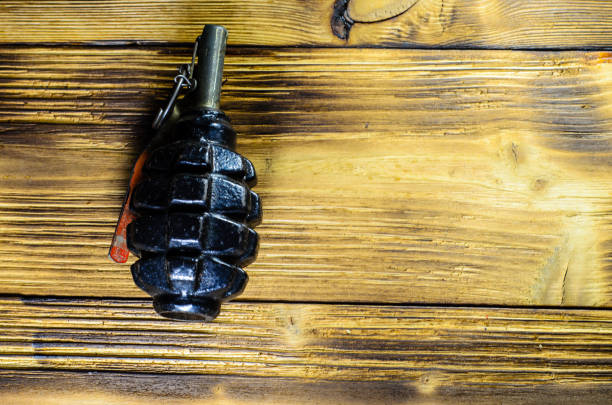e1: (112, 24, 262, 321)
